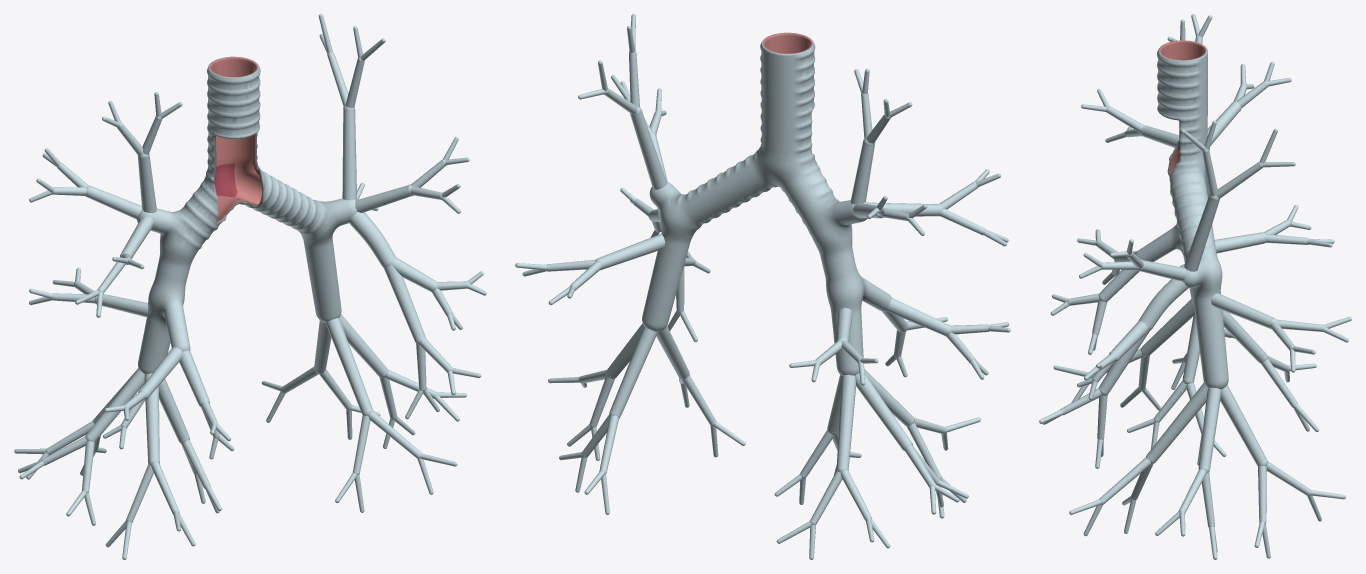
Rendered from bronquios.glb.
3 views of the same model, side by side, from view 1: azimuth 30°, elevation 25°; view 2: azimuth 150°, elevation 25°; view 3: azimuth 270°, elevation 25° (orthographic). The views are drawn at different scales.
Parts seen in each view (by area): view 1: trachea, seg_B7+8_L, mucosa, lmb, seg_B1+2_L, seg_B8_R, rmb, seg_B9_R, seg_B5_L, lll, seg_B9_L, seg_B1_R (+17 smaller); view 2: trachea, lmb, rmb, seg_B10_R, lll, seg_B10_L, seg_B1+2_L, seg_B9_R, seg_B6_L, seg_B1_R, seg_B4_R, seg_B8_R (+14 smaller); view 3: trachea, lmb, seg_B10_L, seg_B7+8_L, lll, seg_B1+2_L, seg_B9_L, seg_B6_L, seg_B8_R, seg_B10_R, seg_B7_R, seg_B5_L (+12 smaller).
Boxes of the visible parts, bbox=[...] form: trachea: bbox=[205, 56, 260, 184]; seg_B7+8_L: bbox=[325, 318, 457, 512]; mucosa: bbox=[159, 57, 262, 308]; lmb: bbox=[239, 170, 334, 238]; seg_B1+2_L: bbox=[318, 14, 385, 200]; seg_B8_R: bbox=[105, 373, 195, 559]; rmb: bbox=[160, 176, 239, 256]; seg_B9_R: bbox=[18, 369, 144, 525]; seg_B5_L: bbox=[384, 265, 481, 419]; lll: bbox=[301, 233, 341, 322]; seg_B9_L: bbox=[339, 314, 466, 448]; seg_B1_R: bbox=[102, 92, 182, 213]; trachea: bbox=[758, 32, 815, 179]; lmb: bbox=[660, 149, 778, 232]; rmb: bbox=[773, 158, 852, 245]; seg_B10_R: bbox=[776, 374, 890, 559]; lll: bbox=[642, 224, 695, 332]; seg_B10_L: bbox=[559, 326, 657, 514]; seg_B1+2_L: bbox=[578, 14, 667, 189]; seg_B9_R: bbox=[855, 373, 968, 514]; seg_B6_L: bbox=[515, 233, 665, 304]; seg_B1_R: bbox=[850, 68, 912, 204]; seg_B4_R: bbox=[886, 298, 1010, 379]; seg_B8_R: bbox=[864, 369, 980, 518]; trachea: bbox=[1157, 40, 1207, 166]; lmb: bbox=[1169, 164, 1222, 290]; seg_B10_L: bbox=[1220, 385, 1345, 558]; seg_B7+8_L: bbox=[1069, 383, 1207, 536]; lll: bbox=[1190, 280, 1228, 389]; seg_B1+2_L: bbox=[1181, 120, 1295, 271]; seg_B9_L: bbox=[1155, 387, 1221, 559]; seg_B6_L: bbox=[1211, 293, 1351, 372]; seg_B8_R: bbox=[1053, 299, 1194, 410]; seg_B10_R: bbox=[1222, 310, 1318, 431]; seg_B7_R: bbox=[1127, 310, 1226, 465]; seg_B5_L: bbox=[1039, 331, 1149, 468].
Size of the model in its own units: 0.1799 by 0.1821 by 0.1183.
